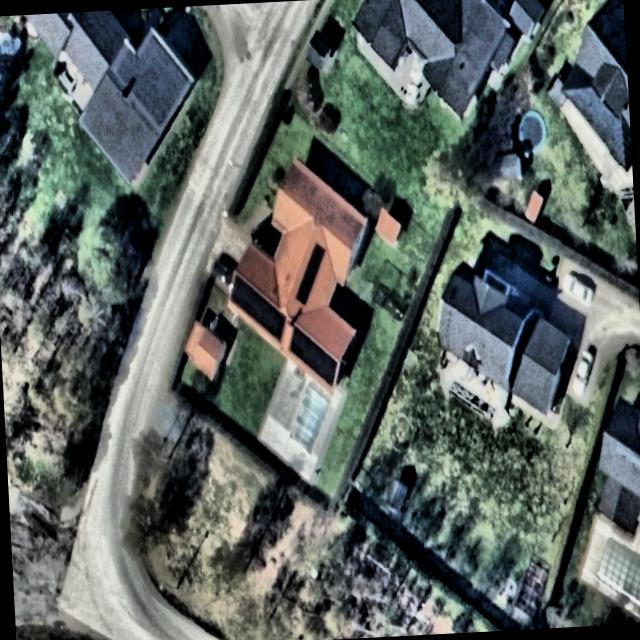roof_pv: (255, 286, 287, 345), (308, 335, 341, 391), (228, 271, 258, 326), (287, 326, 311, 375), (306, 243, 329, 294), (294, 264, 310, 310)
